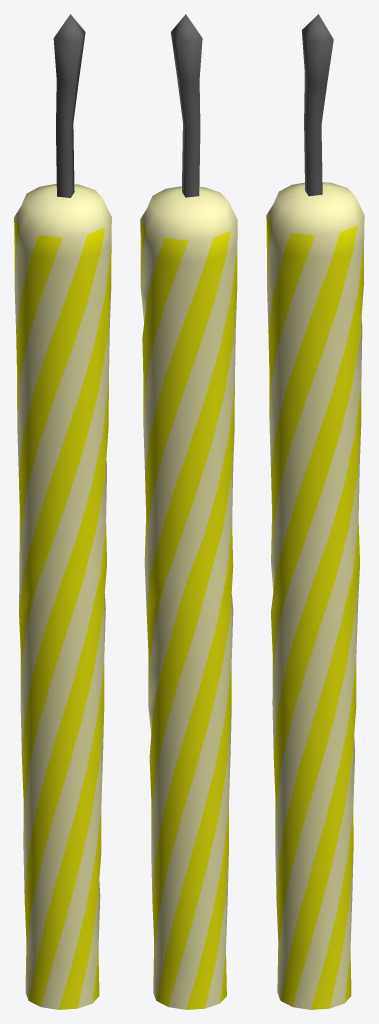
File: birthday_candle_010.glb
3 views of the same model, side by side, from view 1: azimuth 30°, elevation 25°; view 2: azimuth 150°, elevation 25°; view 3: azimuth 330°, elevation 25° (orthographic).
Visible parts, largest first — view 1: birthday_candle_010; view 2: birthday_candle_010; view 3: birthday_candle_010.
Boxes of the visible parts, x1,y1,x2,y2 form: birthday_candle_010: (14, 14, 111, 1009); birthday_candle_010: (140, 14, 237, 1009); birthday_candle_010: (266, 14, 364, 1009).
Bounding box in the file's own units: 0.9066 × 10.02 × 0.9065.
Materials: 1 (1 with a texture image).
